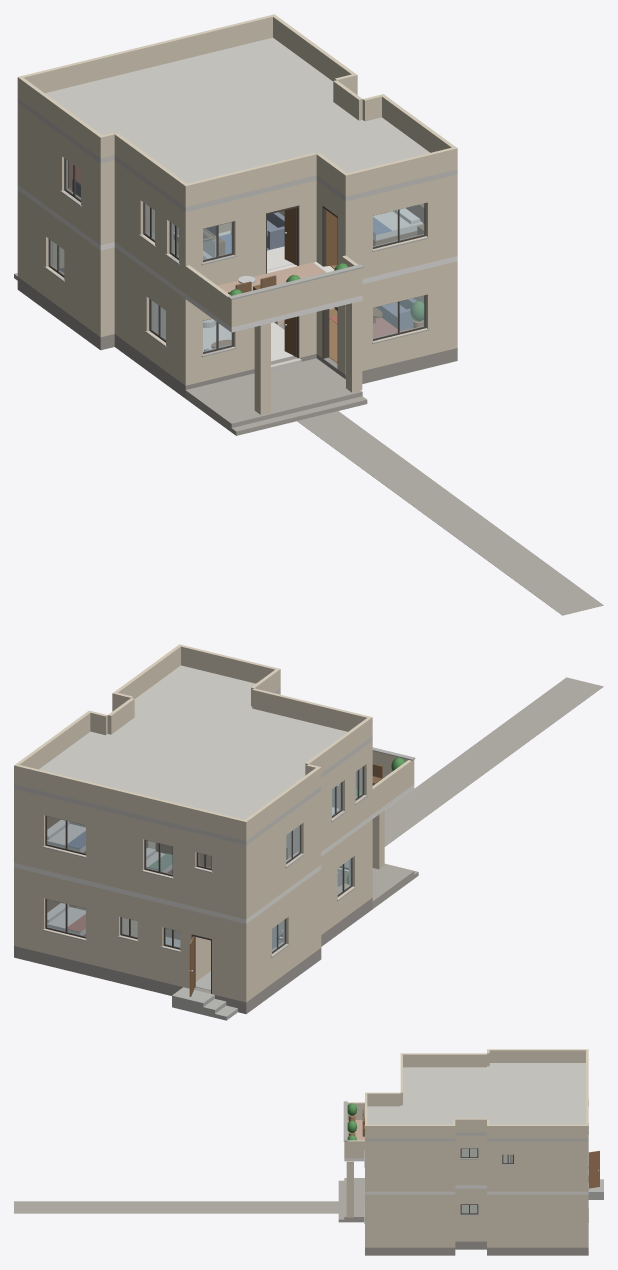
Rendered from house.glb.
3 renders of one model, top to bottom at view 1: azimuth 30°, elevation 25°; view 2: azimuth 150°, elevation 25°; view 3: azimuth 270°, elevation 25°, orthographic. The views are drawn at different scales.
Parts seen in each view (by area): view 1: Roof slab, Front path, Porch slab, Parapet 0, Plinth, SF wall study west solid_end, Terrace parapet front, GF wall kitchen west solid0, Parapet 8, GF wall lounge west solid_end, GF wall kitchen west solid_end, Parapet 6 (+34 smaller); view 2: Roof slab, Front path, Parapet 0, SF wall top (back) solid2, Plinth, SF wall study west solid_end, GF wall top (back) solid3, GF wall top (back) solid0, GF wall kitchen west solid0, GF wall kitchen west solid_end, GF wall top (back) solid_end, SF wall top (back) solid0 (+39 smaller); view 3: Roof slab, GF wall east (bed + bath) solid_end, GF wall drawing east solid_end, SF wall master east solid_end, Front path, SF wall east (bed + bath) solid_end, Plinth, Parapet 1, Parapet 11, Parapet 5, Parapet 9, SF wall east (bed + bath) solid0 (+17 smaller).
Part boxes in pixels (x1,y1,x2,y2): Roof slab: (17, 37, 457, 212); Front path: (297, 411, 603, 615); Porch slab: (185, 358, 362, 432); Parapet 0: (17, 14, 276, 98); Plinth: (17, 277, 457, 398); SF wall study west solid_end: (17, 103, 67, 216); Terrace parapet front: (229, 268, 362, 327); GF wall kitchen west solid0: (64, 224, 106, 336); Parapet 8: (183, 152, 316, 206); GF wall lounge west solid_end: (114, 247, 153, 356); GF wall kitchen west solid_end: (17, 190, 52, 296); Parapet 6: (343, 147, 457, 196); Roof slab: (14, 665, 372, 845); Front path: (384, 677, 603, 846); Parapet 0: (14, 764, 248, 840); SF wall top (back) solid2: (86, 806, 144, 893); Plinth: (14, 898, 372, 1014); SF wall study west solid_end: (240, 817, 286, 919); GF wall top (back) solid3: (86, 885, 120, 971); GF wall top (back) solid0: (212, 916, 249, 1002); GF wall kitchen west solid0: (283, 870, 321, 970); GF wall kitchen west solid_end: (240, 905, 271, 1002); GF wall top (back) solid_end: (14, 867, 45, 952); SF wall top (back) solid0: (212, 837, 249, 917); Roof slab: (365, 1063, 588, 1141); GF wall east (bed + bath) solid_end: (487, 1194, 583, 1247); GF wall drawing east solid_end: (365, 1194, 455, 1247); SF wall master east solid_end: (365, 1141, 455, 1191); Front path: (14, 1201, 338, 1213); SF wall east (bed + bath) solid_end: (514, 1141, 583, 1191); Plinth: (365, 1241, 588, 1255); Parapet 1: (487, 1124, 588, 1138); Parapet 11: (488, 1049, 587, 1062); Parapet 5: (365, 1124, 454, 1138); Parapet 9: (401, 1053, 486, 1067); SF wall east (bed + bath) solid0: (487, 1141, 502, 1191).
Size of what is drawn, in the model's own units: 9.52 by 7.47 by 30.75.
